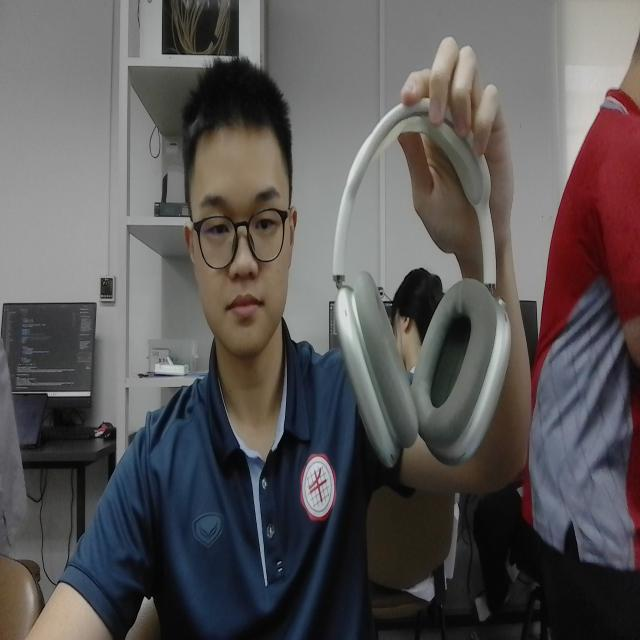airpods max: (321, 78, 520, 484)
